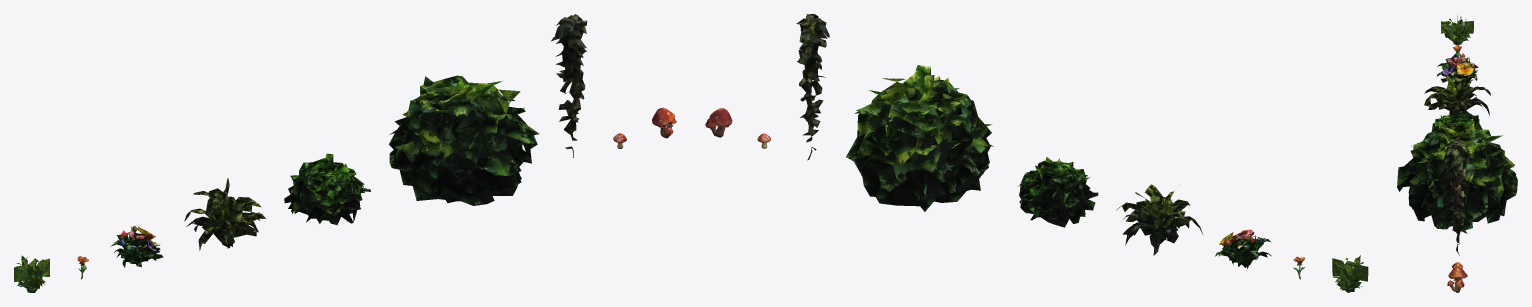
The model's file is vegetation_kit.glb.
3 renders of one model, left to right at view 1: azimuth 30°, elevation 25°; view 2: azimuth 150°, elevation 25°; view 3: azimuth 270°, elevation 25°, orthographic. The views are drawn at different scales.
Visible parts, largest first — view 1: bush_medium, bush_small, fern, vine_segment, flower_cluster, grass_clump, mushroom_cluster; view 2: bush_medium, bush_small, fern, vine_segment, flower_cluster, grass_clump, mushroom_cluster; view 3: bush_medium, vine_segment, fern, flower_cluster, grass_clump, bush_small, mushroom_cluster.
Boxes of the visible parts, x1,y1,x2,y2 form: bush_medium: (389,75,539,205); bush_small: (284,153,370,225); fern: (184,178,266,250); vine_segment: (551,14,587,157); flower_cluster: (110,226,163,267); grass_clump: (14,255,49,292); mushroom_cluster: (652,107,676,138); bush_medium: (846,64,993,211); bush_small: (1017,157,1098,227); fern: (1116,184,1202,255); vine_segment: (796,14,829,160); flower_cluster: (1215,229,1271,268); grass_clump: (1332,255,1368,292); mushroom_cluster: (705,108,732,137); bush_medium: (1397,122,1517,230); vine_segment: (1444,137,1470,255); fern: (1424,68,1490,115); flower_cluster: (1436,52,1478,87); grass_clump: (1441,15,1473,45); bush_small: (1431,111,1482,132); mushroom_cluster: (1447,267,1467,292).
Bounding box in the file's own units: 9.64 × 2 × 1.9.
1 material, 1 textured.
